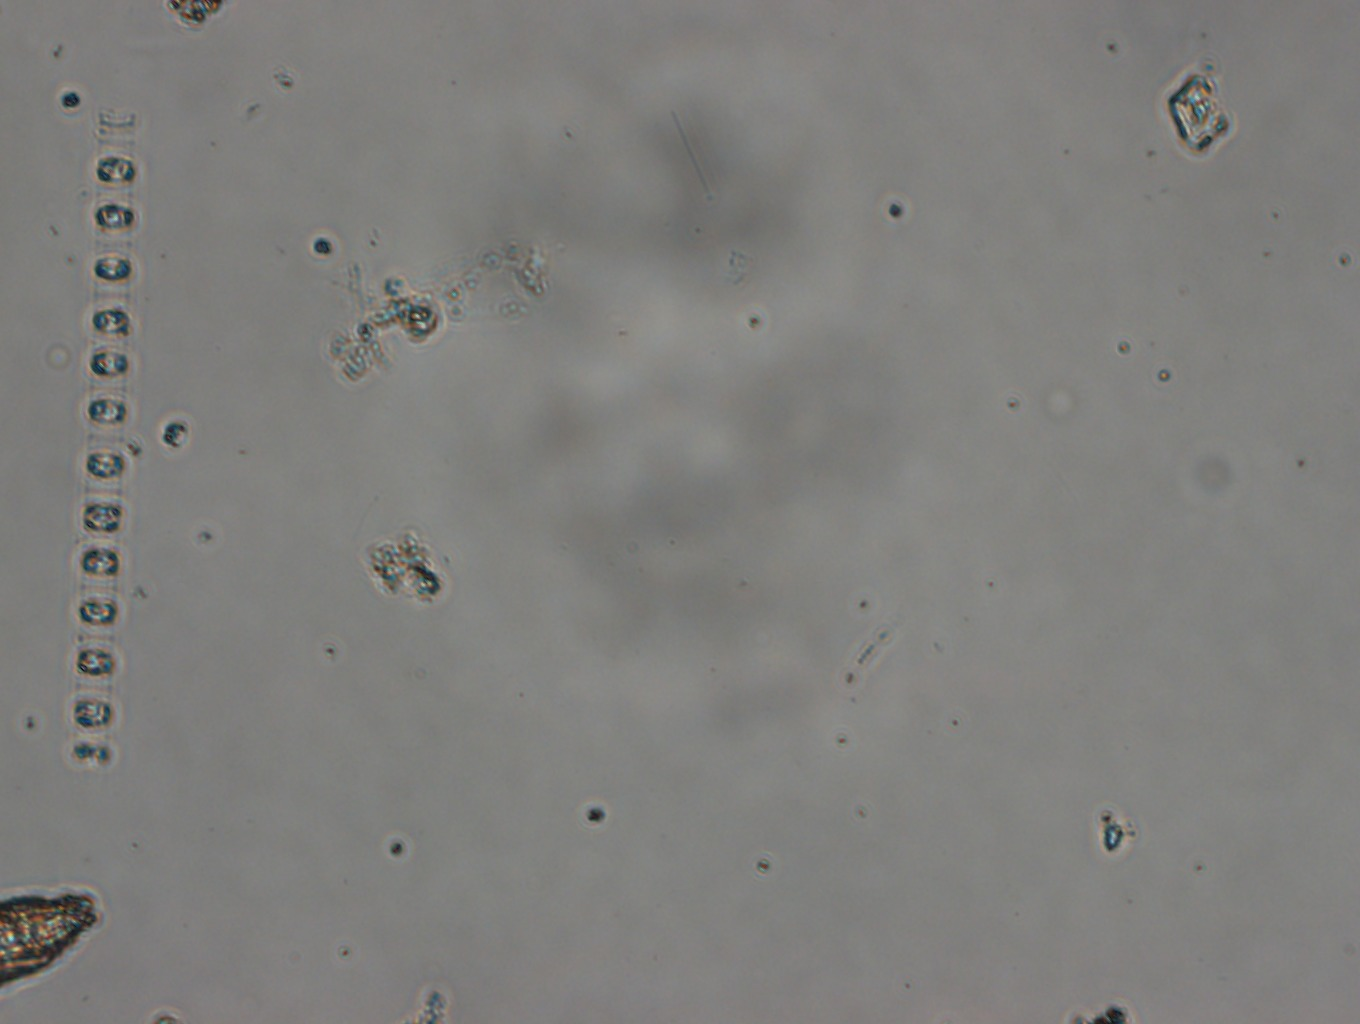skeletonema: (70, 103, 153, 762)
